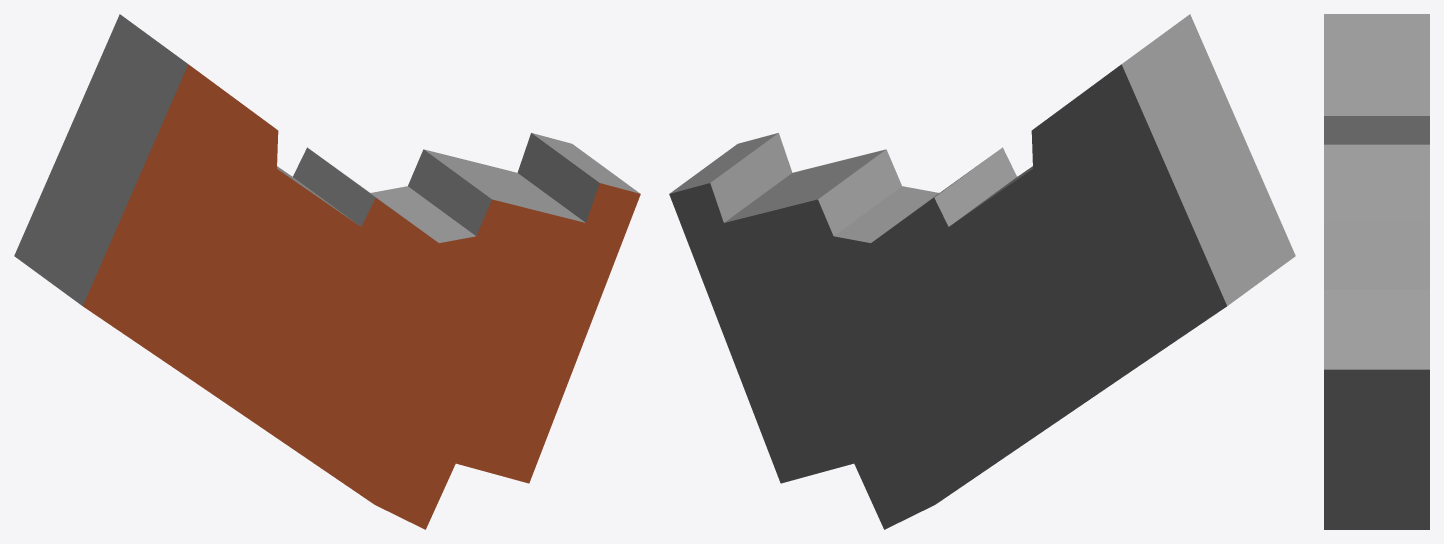
Rendered from construction_4732_assumed_A_Casa_h6m.obj.
3 views of the same model, side by side, from view 1: azimuth 30°, elevation 25°; view 2: azimuth 150°, elevation 25°; view 3: azimuth 270°, elevation 25° (orthographic). The views are drawn at different scales.
Parts seen in each view (by area): view 1: construction_4732_assumed_A_Casa; view 2: construction_4732_assumed_A_Casa; view 3: construction_4732_assumed_A_Casa.
Part boxes in pixels (bbox=[...]): construction_4732_assumed_A_Casa: bbox=[14, 14, 640, 529]; construction_4732_assumed_A_Casa: bbox=[669, 14, 1295, 529]; construction_4732_assumed_A_Casa: bbox=[1324, 14, 1429, 529].
Size of the model in its own units: 28.2 by 25.28 by 6.
